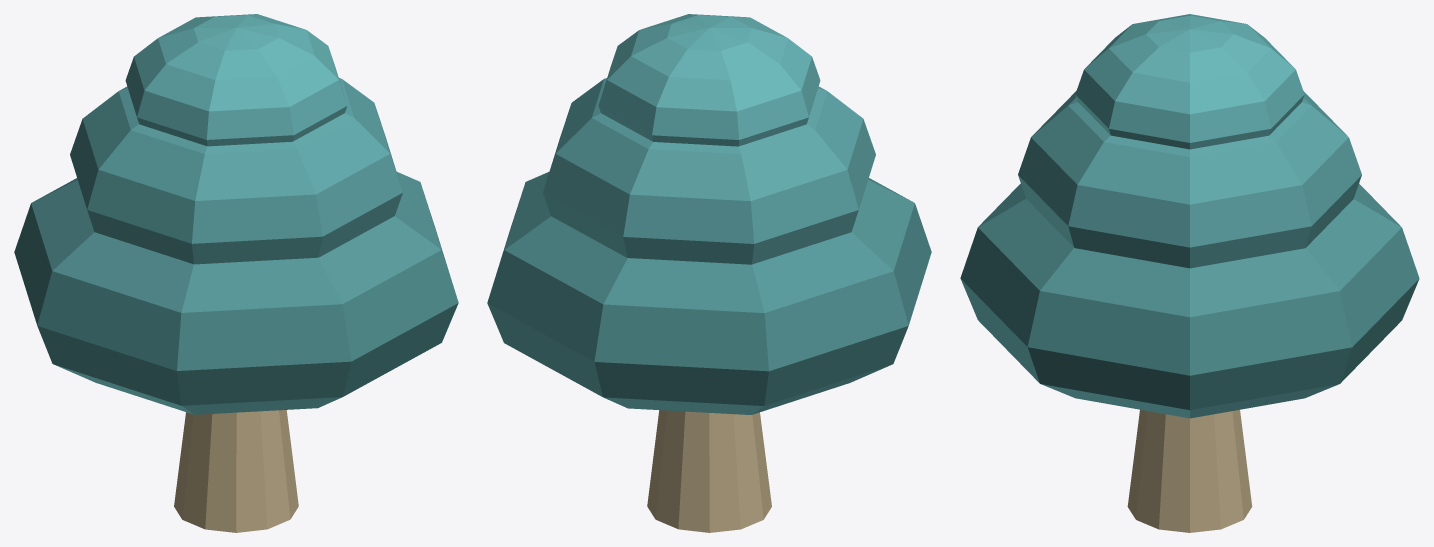
Rendered from Tree Light.fbx.
3 renders of one model, left to right at view 1: azimuth 30°, elevation 25°; view 2: azimuth 150°, elevation 25°; view 3: azimuth 270°, elevation 25°, orthographic.
Parts seen in each view (by area): view 1: pSphere3, pSphere2, pSphere1, pCylinder1; view 2: pSphere3, pSphere2, pSphere1, pCylinder1; view 3: pSphere3, pSphere2, pSphere1, pCylinder1.
Part boxes in pixels (x1,y1,x2,y2): pSphere3: (14,171,458,414); pSphere2: (70,78,402,264); pSphere1: (125,14,347,146); pCylinder1: (174,410,298,532); pSphere3: (487,172,931,414); pSphere2: (543,78,875,264); pSphere1: (598,14,820,146); pCylinder1: (647,410,771,532); pSphere3: (960,183,1419,418); pSphere2: (1018,91,1361,268); pSphere1: (1075,14,1304,149); pCylinder1: (1127,409,1252,532).
Bounding box in the file's own units: 5.66 × 6.5 × 5.66.
